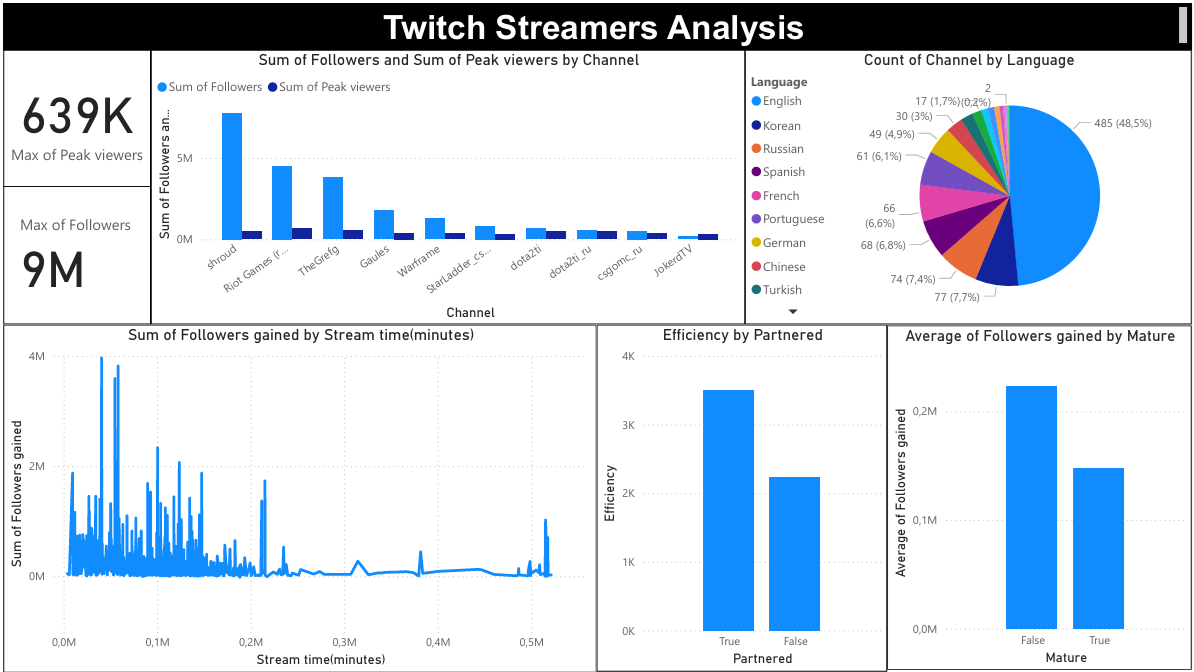

The dashboard page shown, as its layout file describes it:
{"tool":"powerbi","page":{"name":"Page 1","canvas":[1280,720],"ordinal":0},"visuals":[{"type":"textbox","box":[10,0,1270,107.5],"z":0},{"type":"textbox","title":"Top Streamers on Twitch","box":[0,0,1280,50],"z":1000},{"type":"clusteredColumnChart","fields":{"Category":["twitchdata-update.Channel"],"Y":["twitchdata-update.Followers","twitchdata-update.Peak viewers"]},"box":[158.8,50,640,296.2],"z":2000},{"type":"pieChart","fields":{"Category":["twitchdata-update.Language"],"Y":["twitchdata-update.Channel"]},"box":[798.8,50,481.2,296.2],"z":3000},{"type":"card","fields":{"Values":["twitchdata-update.Peak viewers"]},"box":[0,50,158.8,147.5],"z":4000},{"type":"clusteredColumnChart","fields":{"Category":["twitchdata-update.Mature"],"Y":["twitchdata-update.Followers gained"]},"box":[951.7,346.7,328.3,371.7],"z":5000},{"type":"cardVisual","fields":{"Data":["twitchdata-update.Followers"]},"box":[0,197.1,159,149.1],"z":6000},{"type":"clusteredColumnChart","fields":{"Y":["twitchdata-update.Efficiency"],"Category":["twitchdata-update.Partnered"]},"box":[638.9,345.6,313.3,374.4],"z":7001},{"type":"lineChart","fields":{"Category":["twitchdata-update.Stream time(minutes)"],"Y":["twitchdata-update.Followers gained"]},"box":[0,345.6,638.9,375.6],"z":7002}]}

Visuals, with their boxes in screenshot pixels (x1, y1, x2, y2), scaled from the page's 1280x720 canvas onto the 1194x672 screenshot:
textbox: x1=9 y1=0 x2=1193 y2=100
"Top Streamers on Twitch" textbox: x1=0 y1=0 x2=1193 y2=47
clusteredColumnChart - twitchdata-update.Channel x twitchdata-update.Followers: x1=148 y1=47 x2=745 y2=323
pieChart - twitchdata-update.Language x twitchdata-update.Channel: x1=745 y1=47 x2=1193 y2=323
card - twitchdata-update.Peak viewers: x1=0 y1=47 x2=148 y2=184
clusteredColumnChart - twitchdata-update.Mature x twitchdata-update.Followers gained: x1=888 y1=324 x2=1193 y2=671
cardVisual - twitchdata-update.Followers: x1=0 y1=184 x2=148 y2=323
clusteredColumnChart - twitchdata-update.Efficiency x twitchdata-update.Partnered: x1=596 y1=323 x2=888 y2=671
lineChart - twitchdata-update.Stream time(minutes) x twitchdata-update.Followers gained: x1=0 y1=323 x2=596 y2=671
